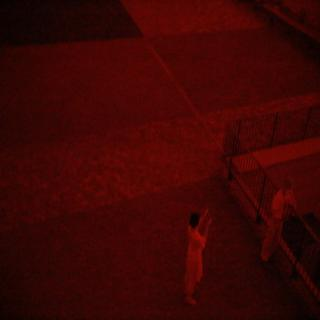person: (181, 199, 221, 307), (262, 182, 296, 275)
